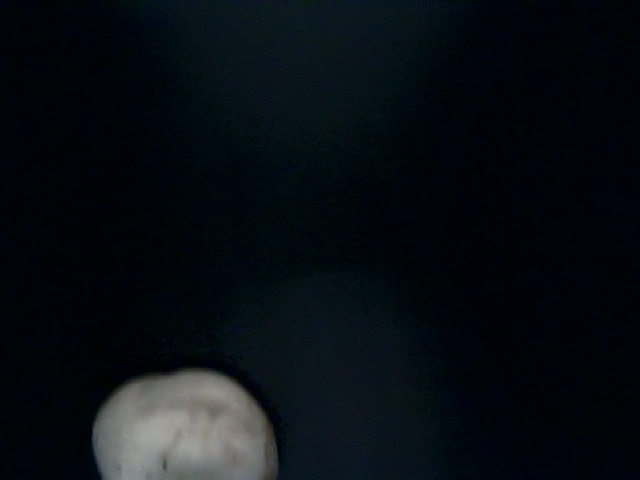QTLJ: (479, 389, 634, 480)
